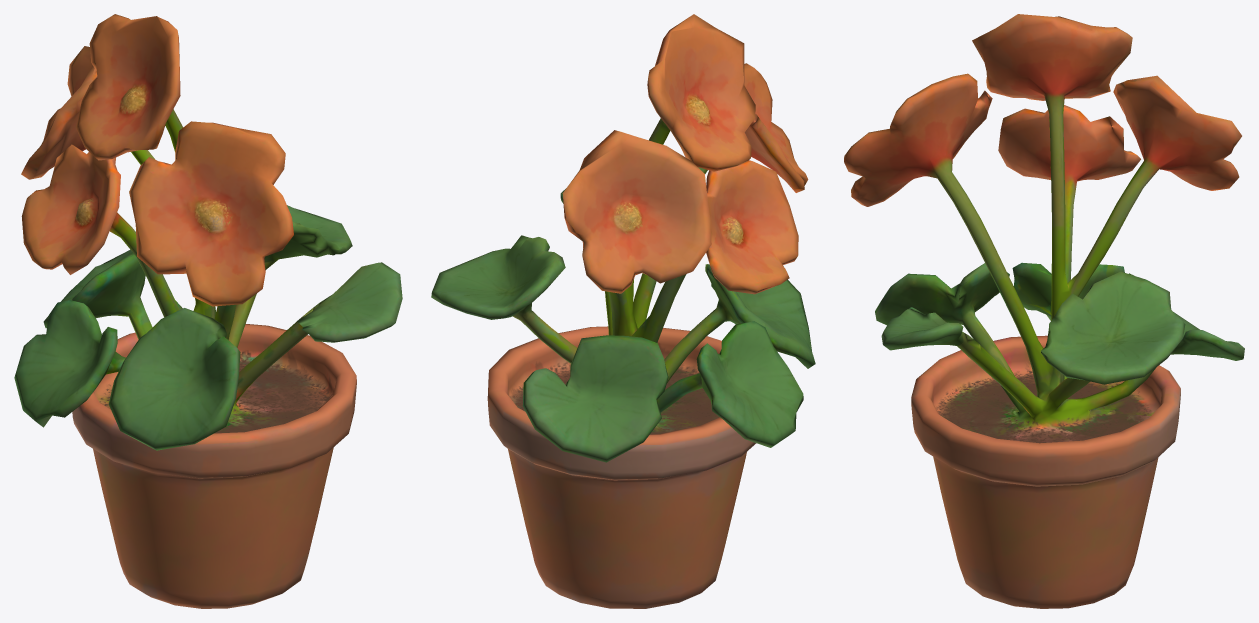
Rendered from potGeranium.fbx.
3 views of the same model, side by side, from view 1: azimuth 30°, elevation 25°; view 2: azimuth 150°, elevation 25°; view 3: azimuth 270°, elevation 25° (orthographic). The views are drawn at different scales.
Parts seen in each view (by area): view 1: potGeranium; view 2: potGeranium; view 3: potGeranium.
Part boxes in pixels (x1=…): potGeranium: x1=14, y1=14, x2=402, y2=608; potGeranium: x1=431, y1=14, x2=815, y2=608; potGeranium: x1=844, y1=14, x2=1244, y2=608.
Size of the model in its own units: 28.9 by 47.02 by 31.73.
